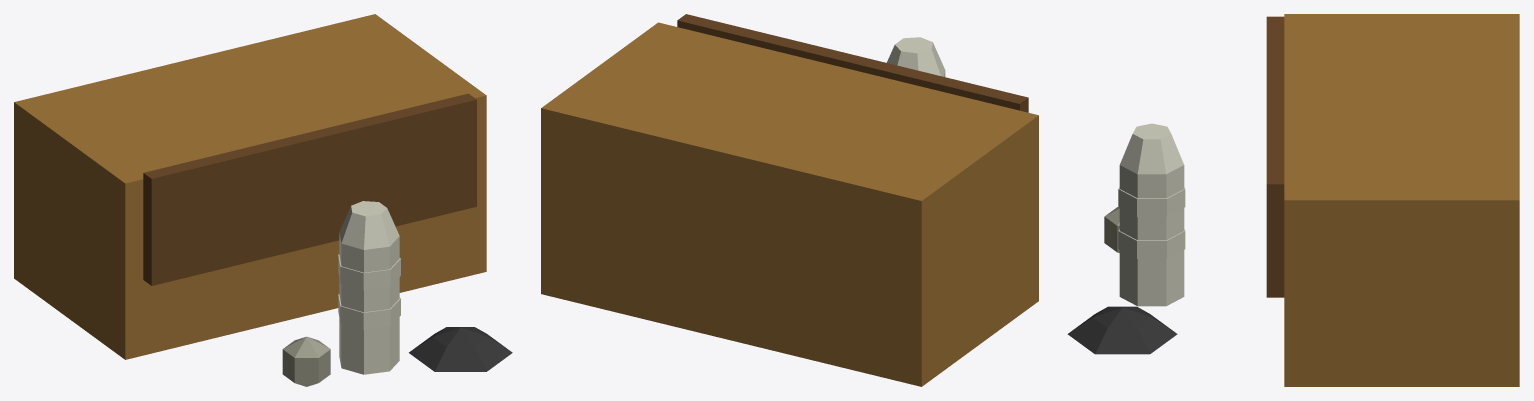
File: ce_ammo2_paper_musket_b.obj
3 renders of one model, left to right at view 1: azimuth 30°, elevation 25°; view 2: azimuth 150°, elevation 25°; view 3: azimuth 270°, elevation 25°, orthographic. The views are drawn at different scales.
Visible parts, largest first — view 1: ce_ammo2_paper_musket_b_0, ce_ammo2_paper_musket_b_1, ce_ammo2_paper_musket_b_9, ce_ammo2_paper_musket_b_2, ce_ammo2_paper_musket_b_7, ce_ammo2_paper_musket_b_8, ce_ammo2_paper_musket_b_6, ce_ammo2_paper_musket_b_4, ce_ammo2_paper_musket_b_5, ce_ammo2_paper_musket_b_3; view 2: ce_ammo2_paper_musket_b_0, ce_ammo2_paper_musket_b_1, ce_ammo2_paper_musket_b_7; view 3: ce_ammo2_paper_musket_b_0, ce_ammo2_paper_musket_b_1, ce_ammo2_paper_musket_b_9, ce_ammo2_paper_musket_b_2, ce_ammo2_paper_musket_b_7, ce_ammo2_paper_musket_b_6, ce_ammo2_paper_musket_b_4, ce_ammo2_paper_musket_b_5, ce_ammo2_paper_musket_b_3, ce_ammo2_paper_musket_b_8.
Part boxes in pixels (<box>): ce_ammo2_paper_musket_b_0: <box>14,14,486,359</box>; ce_ammo2_paper_musket_b_1: <box>143,93,476,285</box>; ce_ammo2_paper_musket_b_9: <box>409,327,512,371</box>; ce_ammo2_paper_musket_b_2: <box>339,317,399,374</box>; ce_ammo2_paper_musket_b_7: <box>339,201,399,249</box>; ce_ammo2_paper_musket_b_8: <box>282,336,330,386</box>; ce_ammo2_paper_musket_b_6: <box>339,233,399,272</box>; ce_ammo2_paper_musket_b_4: <box>339,277,399,312</box>; ce_ammo2_paper_musket_b_5: <box>338,254,400,290</box>; ce_ammo2_paper_musket_b_3: <box>338,294,400,329</box>; ce_ammo2_paper_musket_b_0: <box>541,22,1038,386</box>; ce_ammo2_paper_musket_b_1: <box>677,14,1028,112</box>; ce_ammo2_paper_musket_b_7: <box>886,37,944,76</box>; ce_ammo2_paper_musket_b_0: <box>1284,14,1519,386</box>; ce_ammo2_paper_musket_b_1: <box>1266,16,1284,297</box>; ce_ammo2_paper_musket_b_9: <box>1067,306,1177,354</box>; ce_ammo2_paper_musket_b_2: <box>1119,250,1184,306</box>; ce_ammo2_paper_musket_b_7: <box>1120,123,1183,174</box>; ce_ammo2_paper_musket_b_6: <box>1119,165,1184,198</box>; ce_ammo2_paper_musket_b_4: <box>1119,208,1184,240</box>; ce_ammo2_paper_musket_b_5: <box>1118,187,1185,216</box>; ce_ammo2_paper_musket_b_3: <box>1118,229,1185,258</box>; ce_ammo2_paper_musket_b_8: <box>1104,207,1119,252</box>.
Bounding box in the file's own units: 0.6 × 0.29 × 0.615.
